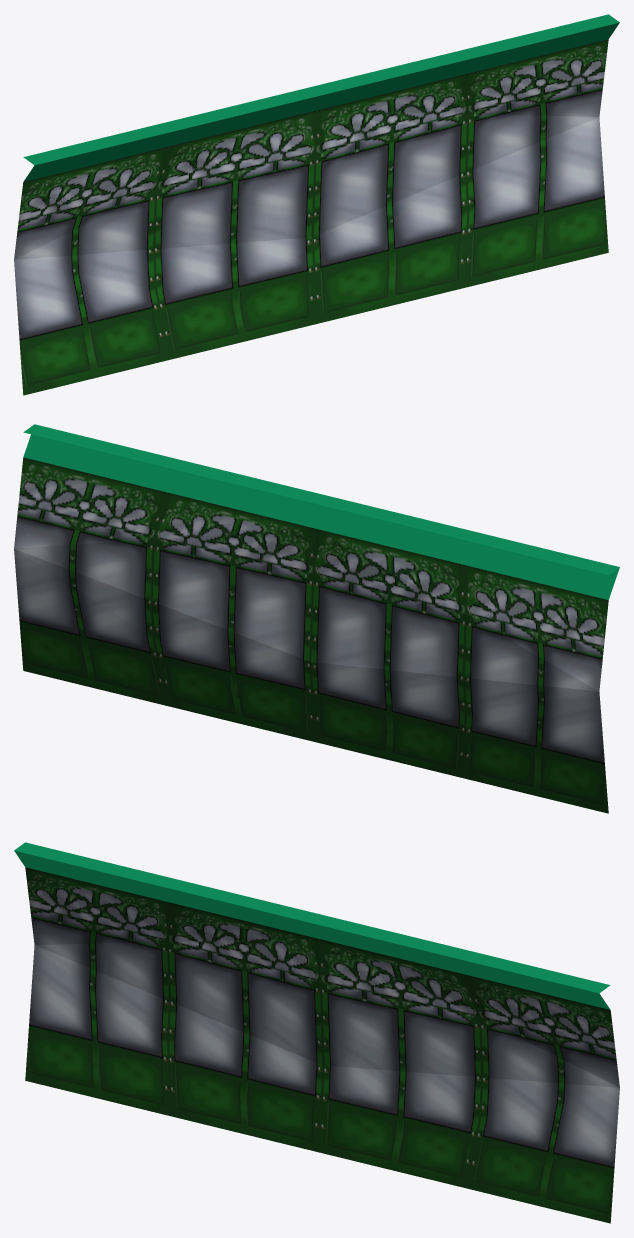
File: W_A3_xxxx [GrünesMetall]_258.glb
The picture shows the model from 3 angles, top to bottom: view 1: azimuth 30°, elevation 25°; view 2: azimuth 150°, elevation 25°; view 3: azimuth 330°, elevation 25°; orthographic projection.
Visible parts, largest first — view 1: polySurfaceShape787, polySurfaceShape1065; view 2: polySurfaceShape787, polySurfaceShape1065; view 3: polySurfaceShape787, polySurfaceShape1065.
Part boxes in pixels (left/top/right/bottom): polySurfaceShape787: left=14, top=39, right=608, bottom=395; polySurfaceShape1065: left=23, top=14, right=619, bottom=181; polySurfaceShape787: left=14, top=457, right=608, bottom=813; polySurfaceShape1065: left=23, top=424, right=619, bottom=599; polySurfaceShape787: left=25, top=867, right=619, bottom=1223; polySurfaceShape1065: left=14, top=842, right=610, bottom=1009.
Bounding box in the file's own units: 1 × 0.3891 × 0.0607.
Materials: 2 (1 with a texture image).
